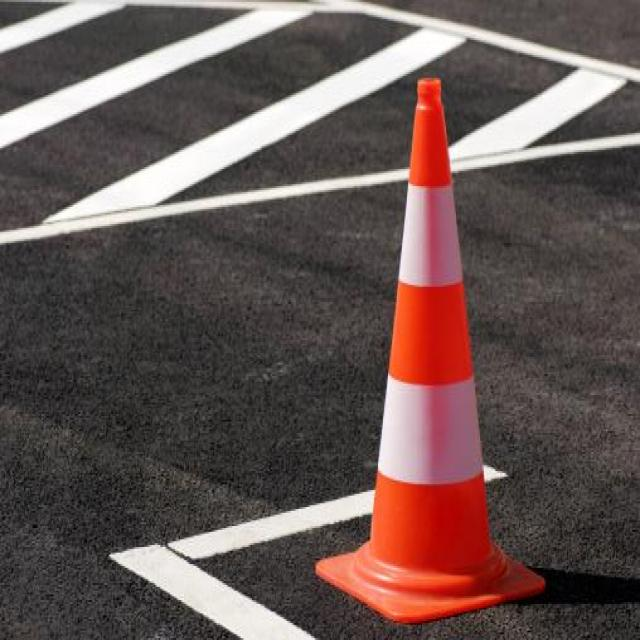Cone: (319, 80, 539, 621)
